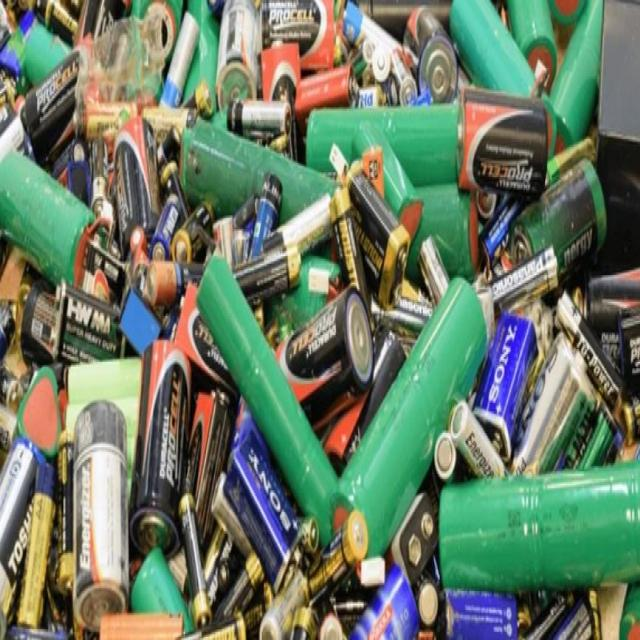electronic: (134, 326, 206, 568)
